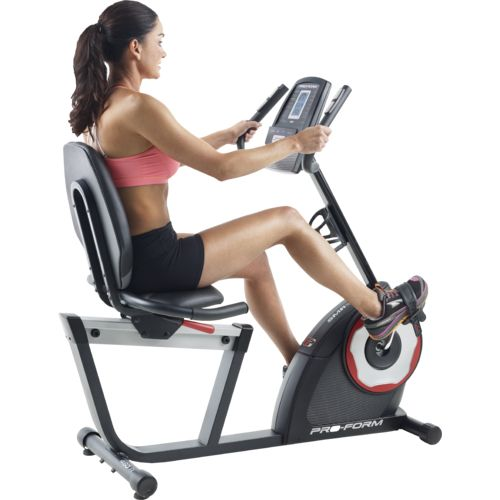gym_bike: (43, 70, 451, 496)
